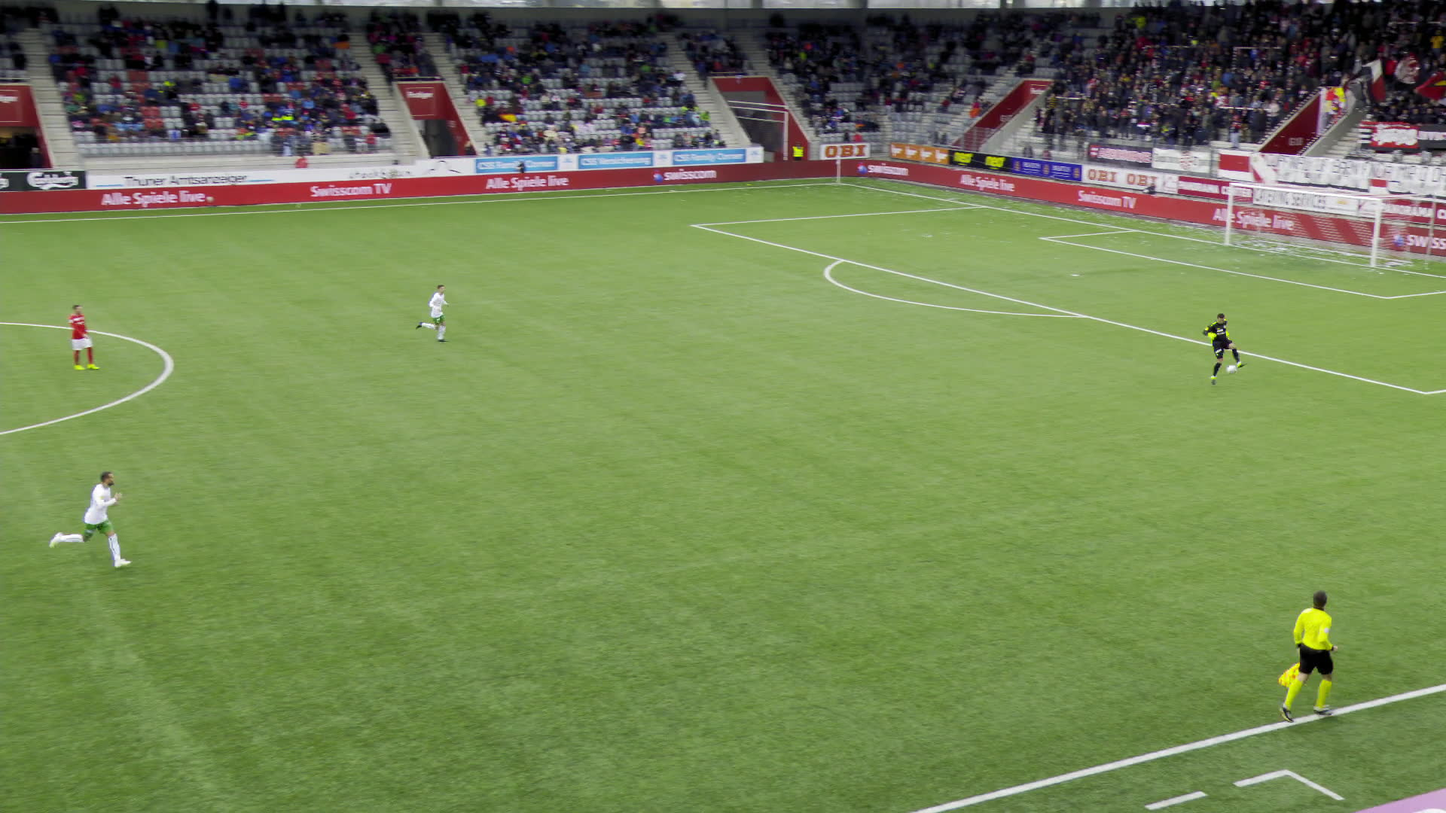ball: (1225, 364, 1237, 373)
player: (60, 473, 127, 570), (1202, 313, 1246, 387), (415, 283, 458, 344), (69, 304, 104, 370)
referee: (1271, 595, 1339, 723)
